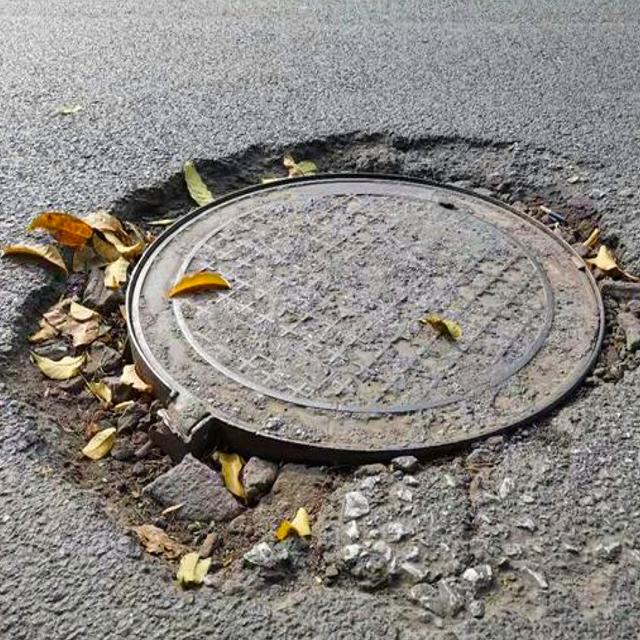circle: (5, 129, 640, 599)
